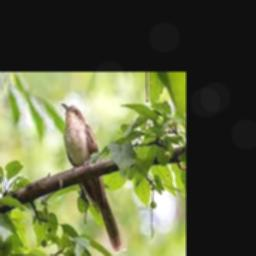Cuckoo: (61, 103, 127, 254)
